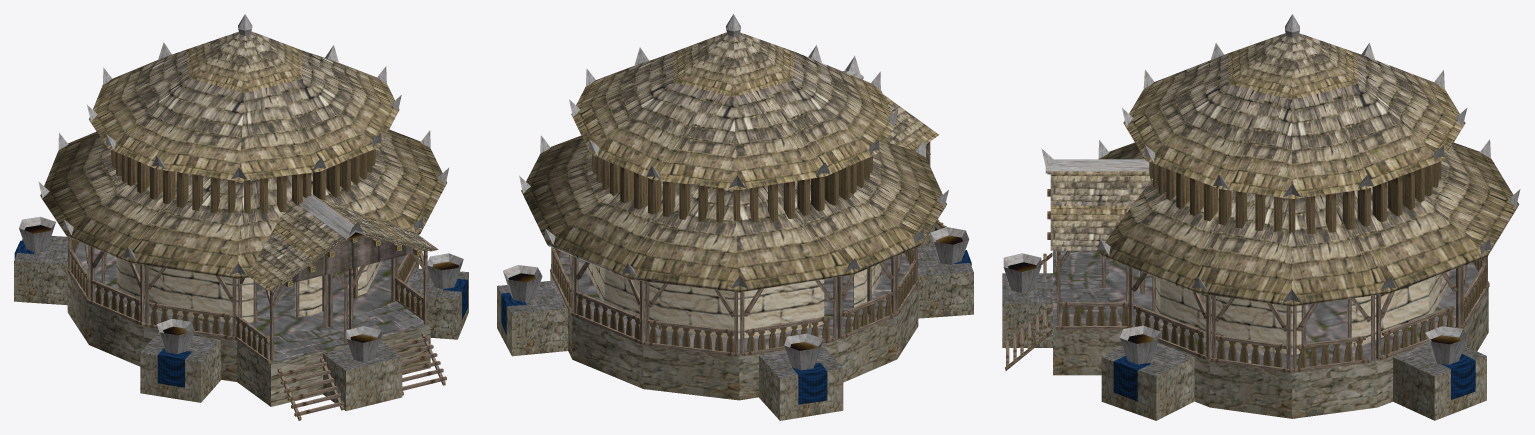
The model's file is wonder.dae.
3 views of the same model, side by side, from view 1: azimuth 30°, elevation 25°; view 2: azimuth 150°, elevation 25°; view 3: azimuth 270°, elevation 25° (orthographic). The views are drawn at different scales.
Parts seen in each view (by area): view 1: wonder; view 2: wonder; view 3: wonder.
Part boxes in pixels (box(x1,y1,x2,y2)): wonder: box(14, 14, 468, 420); wonder: box(497, 14, 973, 420); wonder: box(1002, 14, 1520, 420).
Size of the model in its own units: 34.47 by 38.53 by 26.31.
